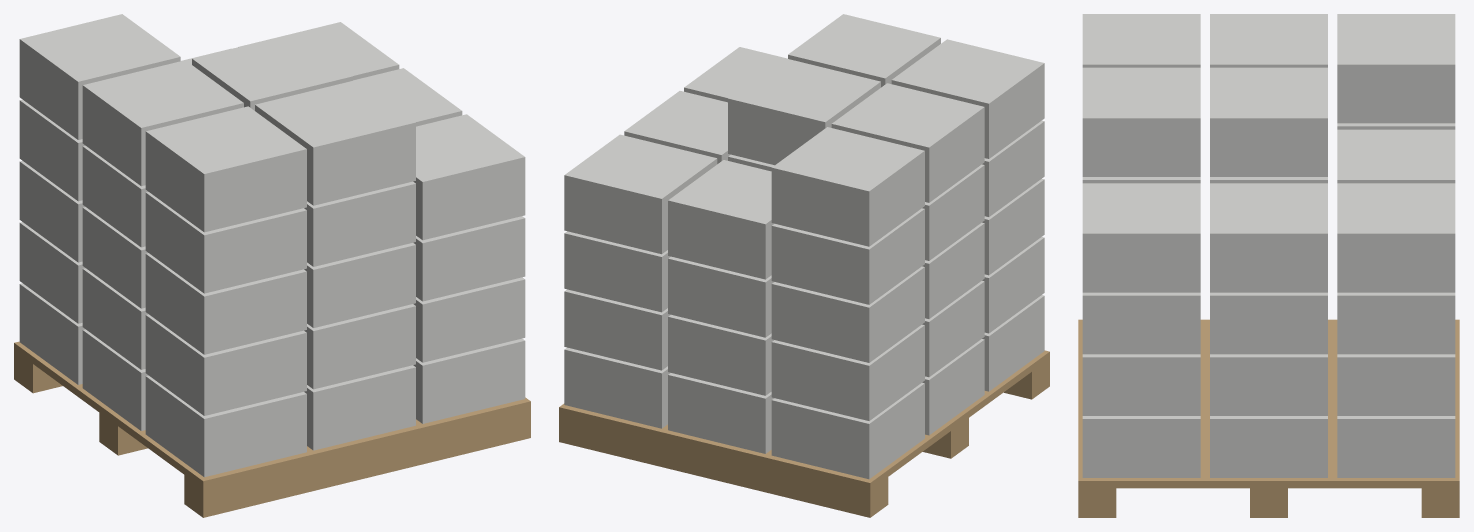
The model's file is pallet_mp_41.glb.
3 renders of one model, left to right at view 1: azimuth 30°, elevation 25°; view 2: azimuth 150°, elevation 25°; view 3: azimuth 270°, elevation 25°, orthographic. The views are drawn at different scales.
Parts seen in each view (by area): view 1: PalletMP; view 2: PalletMP; view 3: PalletMP.
Part boxes in pixels (x1=…): PalletMP: x1=14, y1=14, x2=530, y2=517; PalletMP: x1=559, y1=14, x2=1049, y2=517; PalletMP: x1=1078, y1=14, x2=1459, y2=517.
Size of the model in its own units: 1 by 0.9957 by 1.
